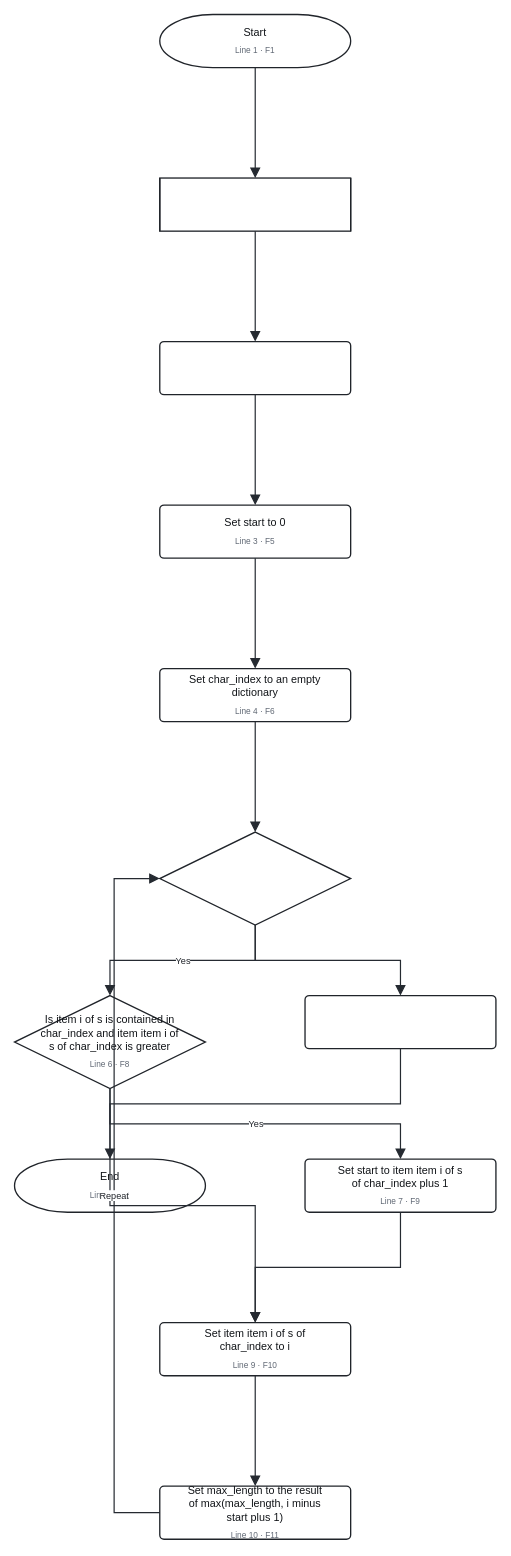
Image size: 511x1556. Some labels were removed from this diagram. The shapes that lost their labels are listed below. From the top down, each one's centre as x and y in pixels, then its label:
(255,204): Run function LONGEST_SUBSTRING with s Line 1 · F3
(255,367): Set max_length to 0 Line 2 · F4
(255,878): For i from 0 to the length of s minus 1 plus 1 Line 5 · F7
(400,1022): Return max_length Line 12 · F12
